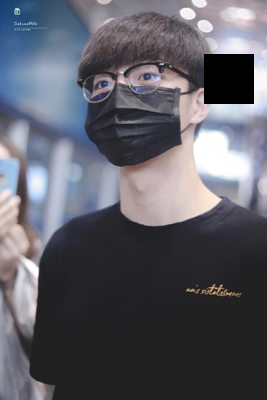with_mask: (84, 54, 199, 167)
